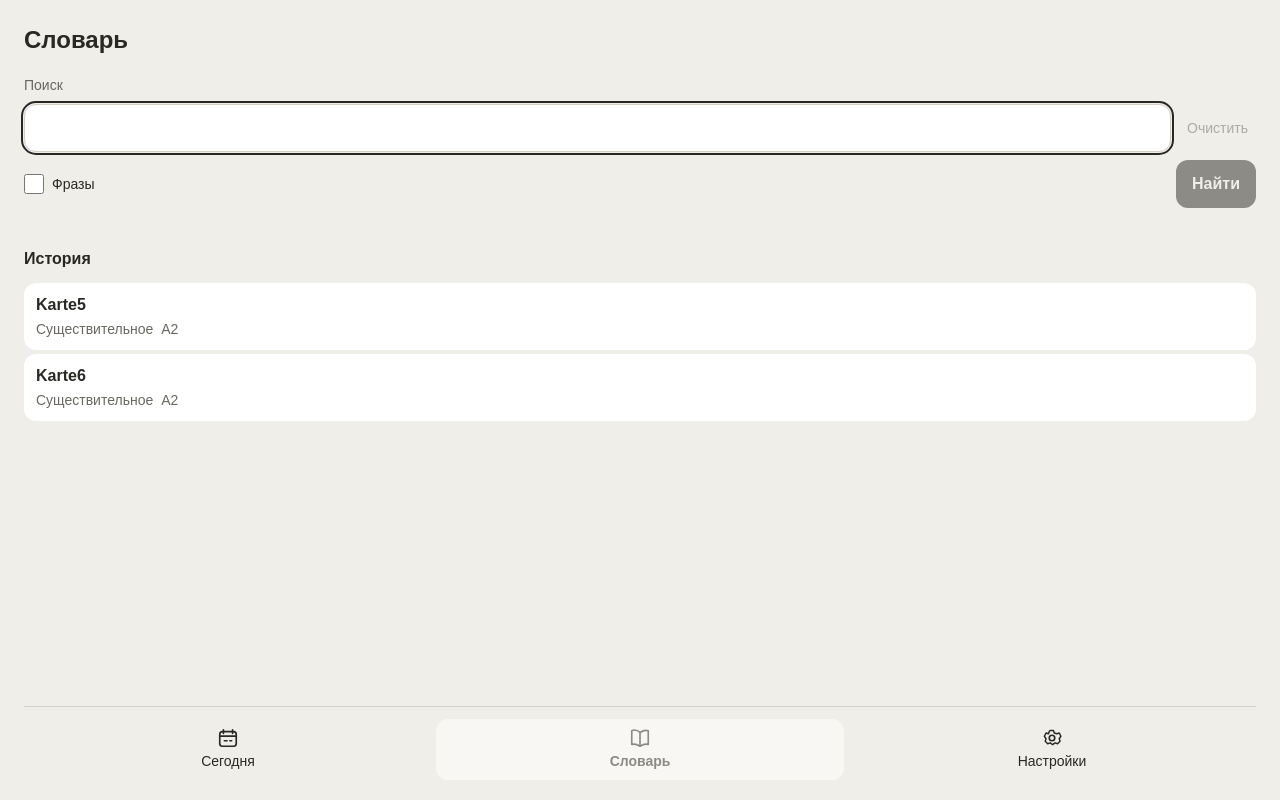
DictionaryHost (М11) with real access, APIs, controllers and hooks › TA §7: a late reply of the other mode does not replace the current one
This screenshot has width=1280, height=800.
Step 1. Type "Haus" into the field labelled "Поиск" → (598, 128), box left=24, top=104, right=1171, bottom=152
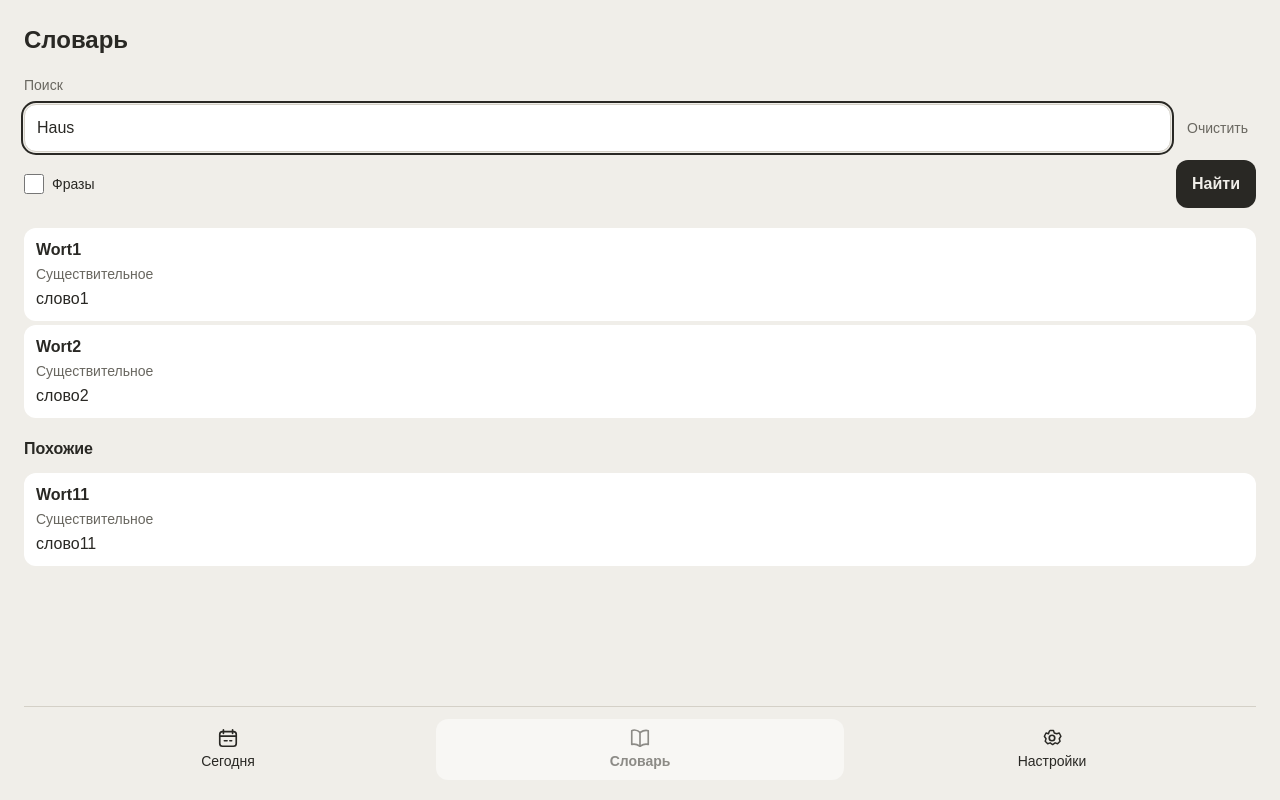
Step 2. Click the switch labelled "Фразы" → (34, 184), box left=24, top=174, right=44, bottom=194
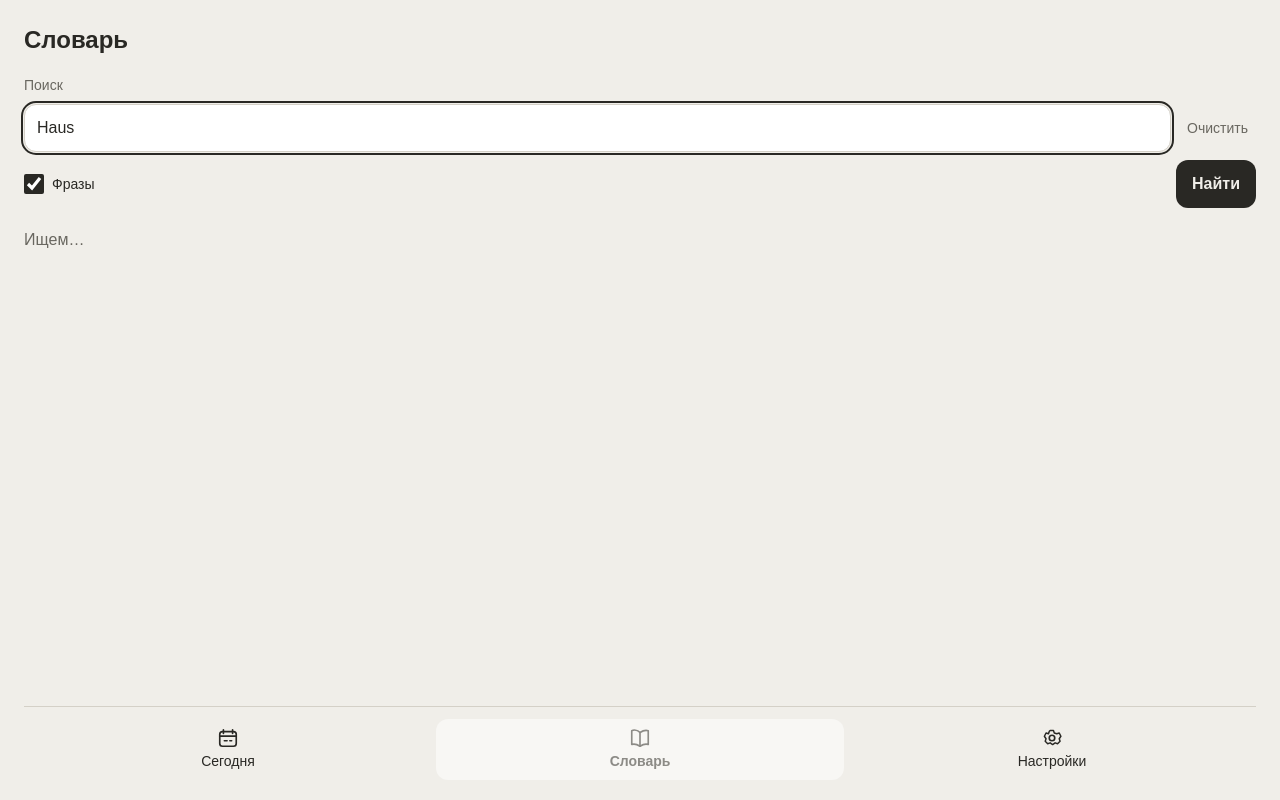
Step 3. Click the switch labelled "Фразы" → (34, 184), box left=24, top=174, right=44, bottom=194
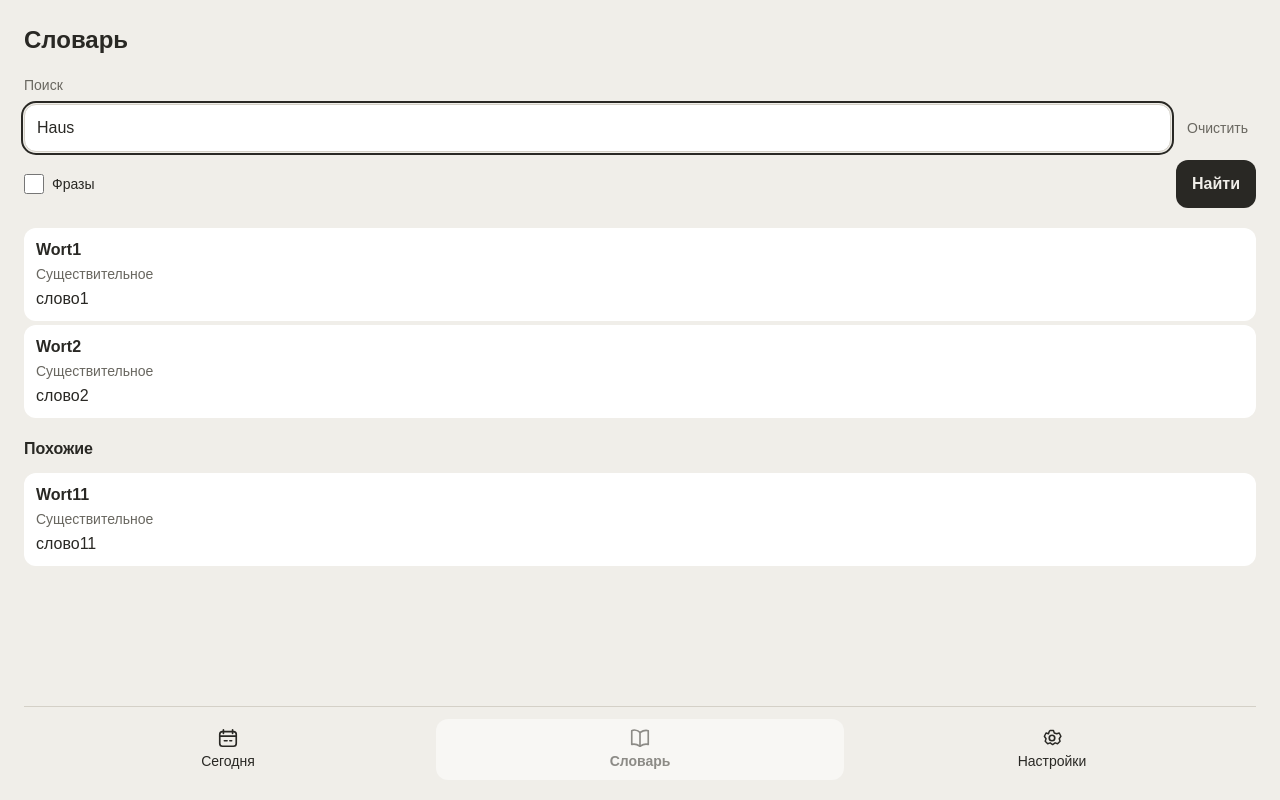
Expected: the switch labelled "Фразы" is not checked, left=24, top=174, right=44, bottom=194
Expected: the buttons read "Wort1Существительноеслово1", "Wort2Существительноеслово2", in this order, left=24, top=228, right=1256, bottom=321; left=24, top=325, right=1256, bottom=418
